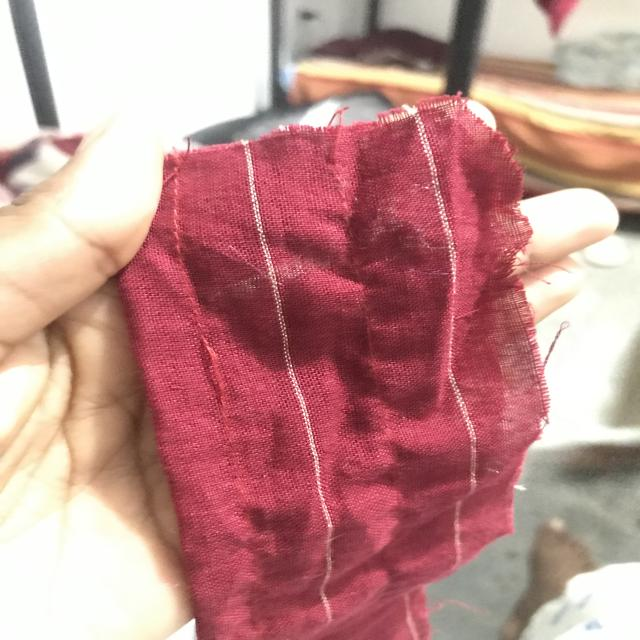skip: (181, 321, 248, 415)
